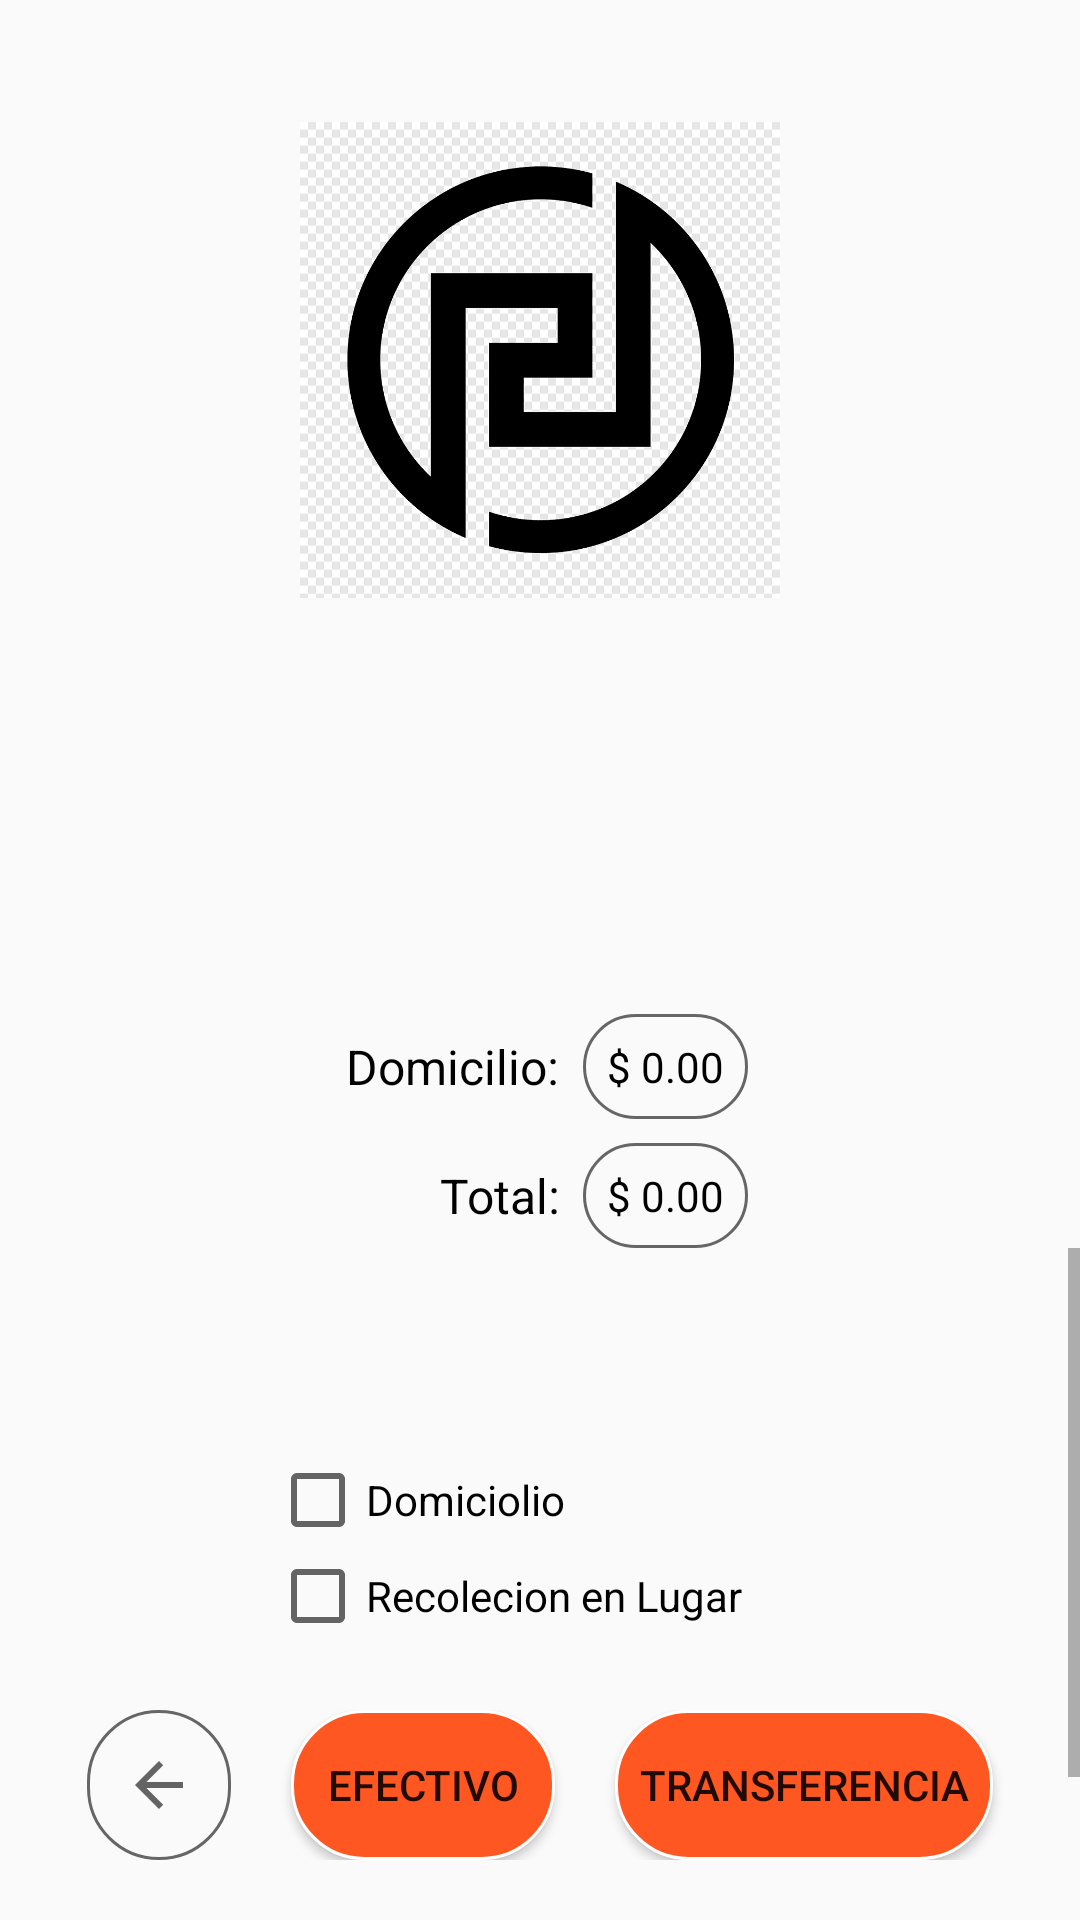

Screen size 1080px×1920px. Icon name, then its center in pixels as point (x, y):
Back: point (159, 1785)
